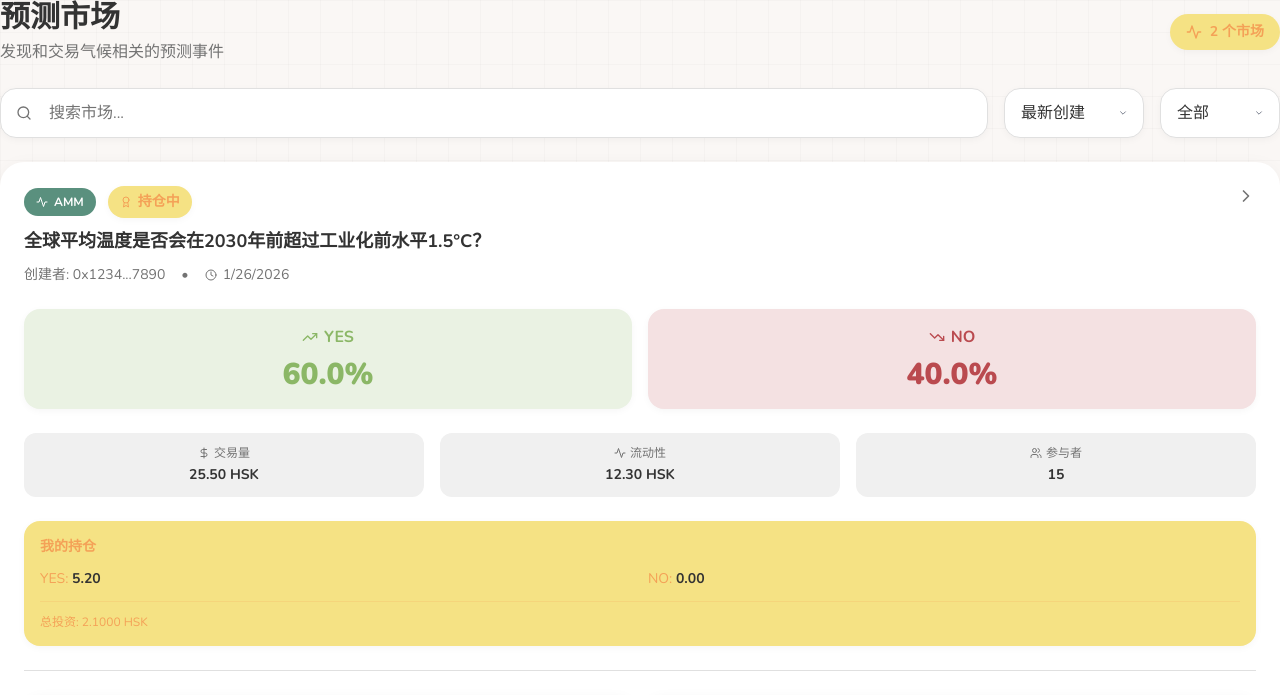
Scenario: MarketList › filters markets by status
The image size is (1280, 695).
Select "已结束" in the 2nd dropdown showing "全部" at (1220, 113), box [1160,88,1279,138]
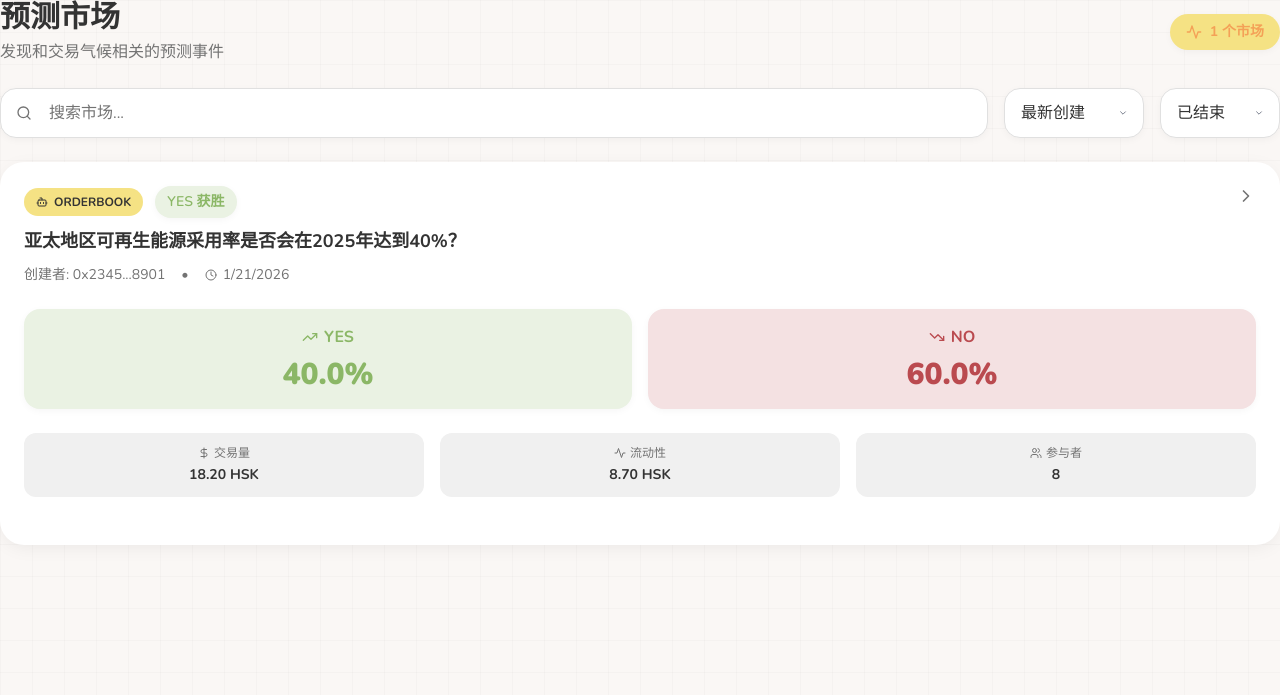
Expected: the heading "亚太地区可再生能源采用率是否会在2025年达到40%？" is shown, [24,229,466,253]
Expected: the heading "全球平均温度是否会在2030年前超过工业化前水平1.5°C？" is gone
